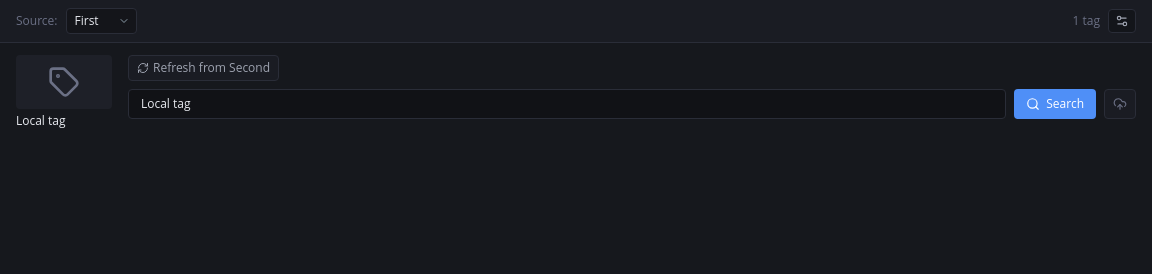
Scenario: metadata refresh import endpoints › shows tag metadata imports that skipped conflicting remote claims as partial successes
Click the button "Refresh from Second" at coordinates (204, 68), box [128,55,279,81]
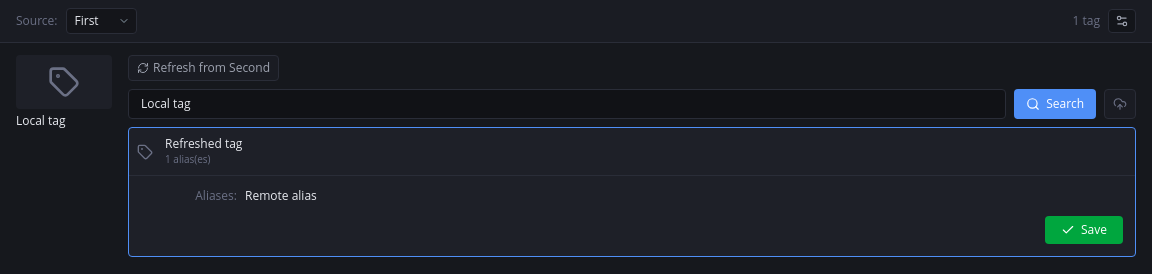
Click the button "Save" at coordinates (1084, 230), box [1045,216,1123,244]
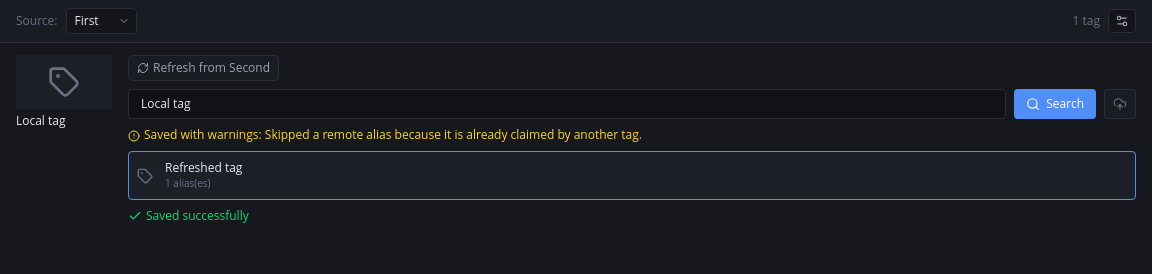
Check: the text "Saved with warnings: Skipped a remote alias" is shown, box [128,126,642,143]
Check: the text "Saved successfully" is shown, box [128,207,249,224]
